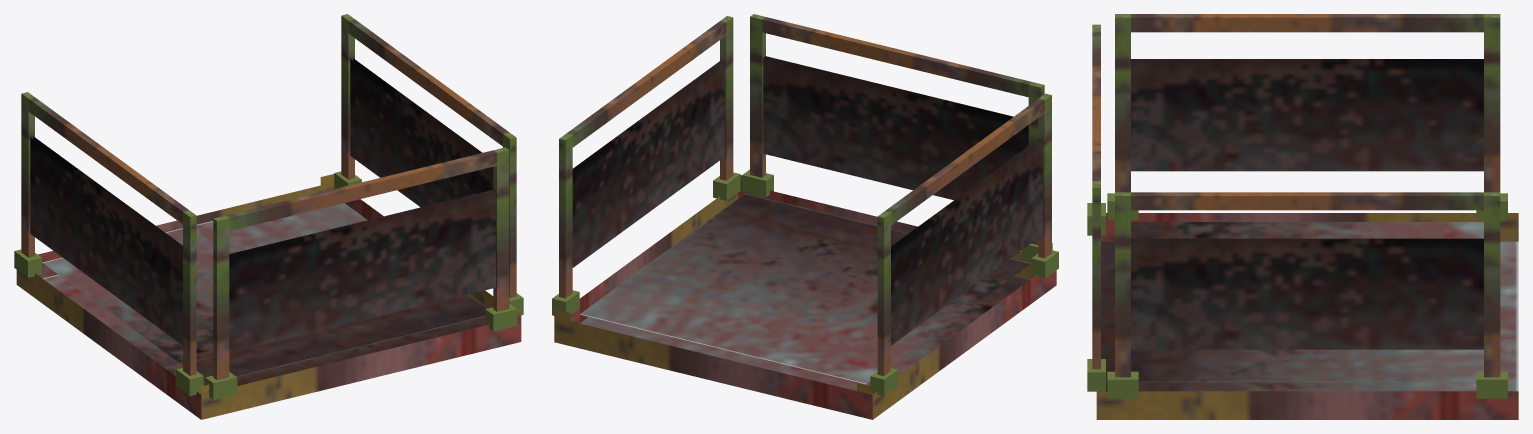
File: SM_PLATAFORMA_03.fbx
3 renders of one model, left to right at view 1: azimuth 30°, elevation 25°; view 2: azimuth 150°, elevation 25°; view 3: azimuth 270°, elevation 25°, orthographic. The views are drawn at different scales.
Parts seen in each view (by area): view 1: SM_PLATAFORMA_03; view 2: SM_PLATAFORMA_03; view 3: SM_PLATAFORMA_03.
Boxes of the visible parts, box(x1,y1,x2,y2) form: SM_PLATAFORMA_03: box(14, 14, 523, 419); SM_PLATAFORMA_03: box(552, 14, 1058, 419); SM_PLATAFORMA_03: box(1087, 14, 1518, 419).
Bounding box in the file's own units: 2.09 × 1.18 × 2.04.
